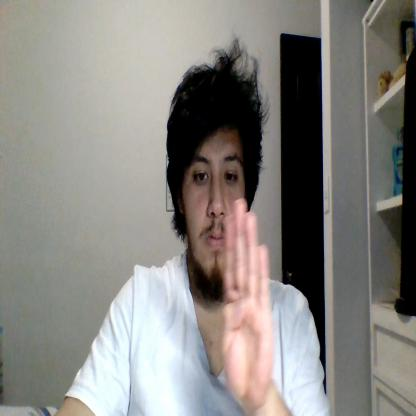B: (220, 198, 274, 410)
